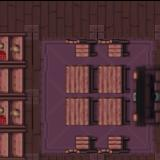Hide: (131, 62, 160, 128)
Obstacle: (64, 63, 98, 96), (64, 96, 98, 128), (64, 128, 98, 160), (98, 128, 132, 160), (0, 127, 32, 160), (98, 96, 131, 128), (97, 31, 130, 63), (64, 32, 98, 63), (0, 95, 32, 127), (0, 63, 32, 95), (98, 64, 130, 96), (0, 32, 32, 62)
